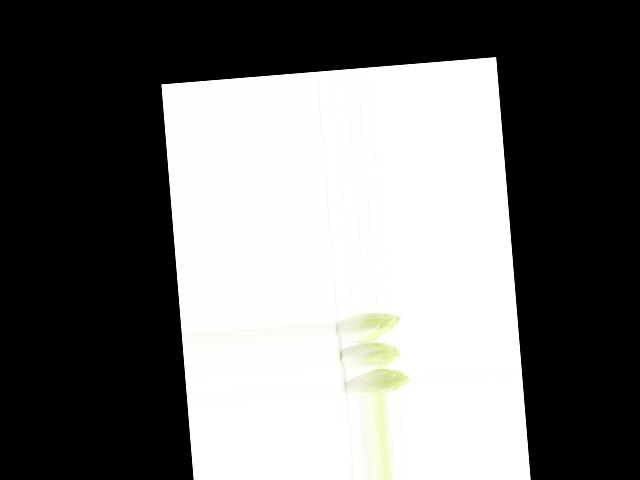lettuce: (332, 310, 402, 343)
